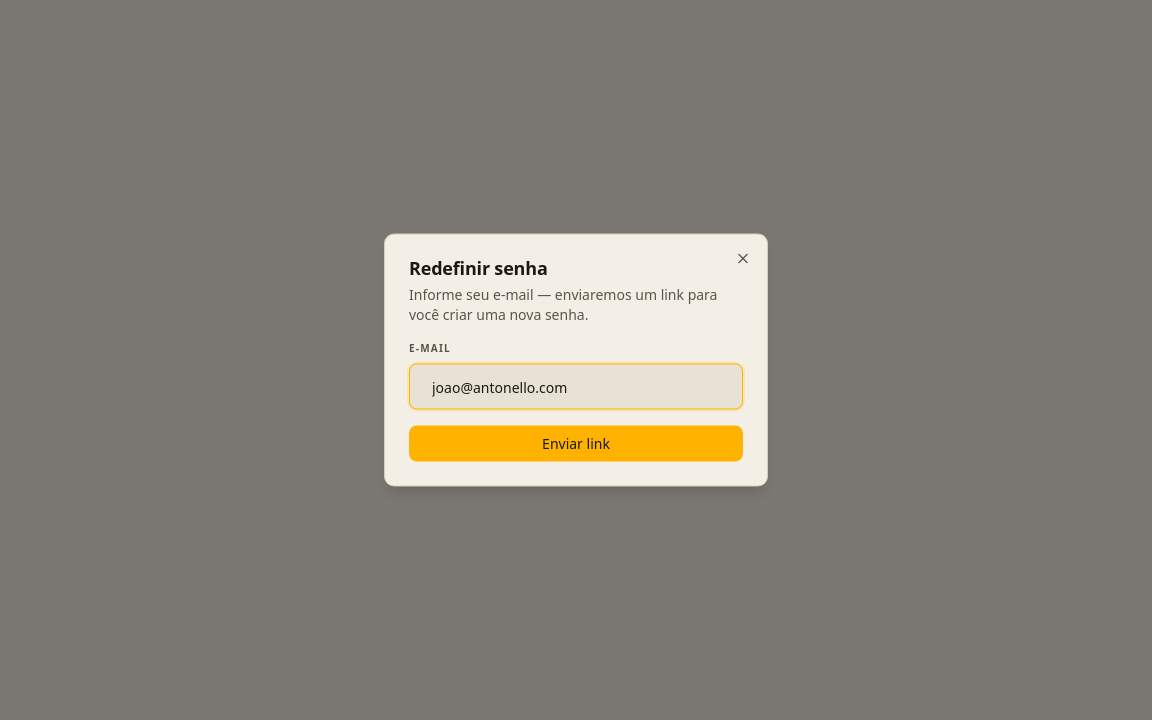
EsqueciSenhaDialog › envia o e-mail e mostra a confirmação
This screenshot has width=1152, height=720.
Click the button "Enviar link" at [576, 444], box [409,426,743,462]
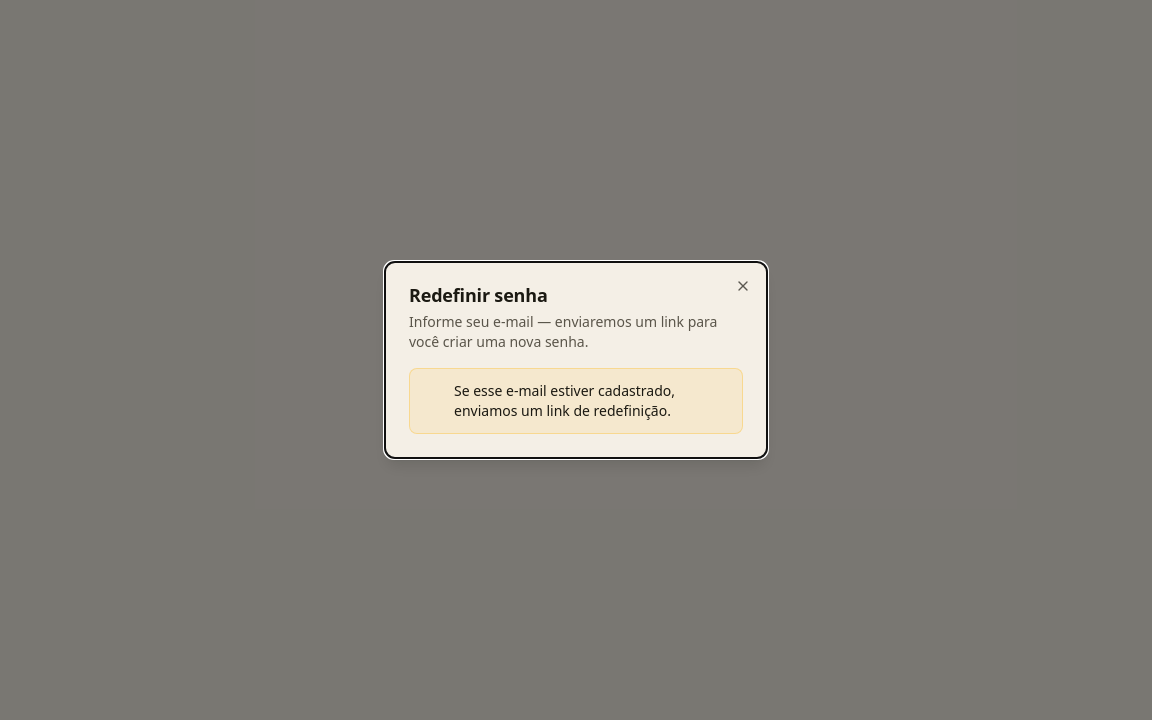
expect the text "Se esse e-mail estiver cadastrado, enviamos um link" is shown: met, box [454,381,675,420]
